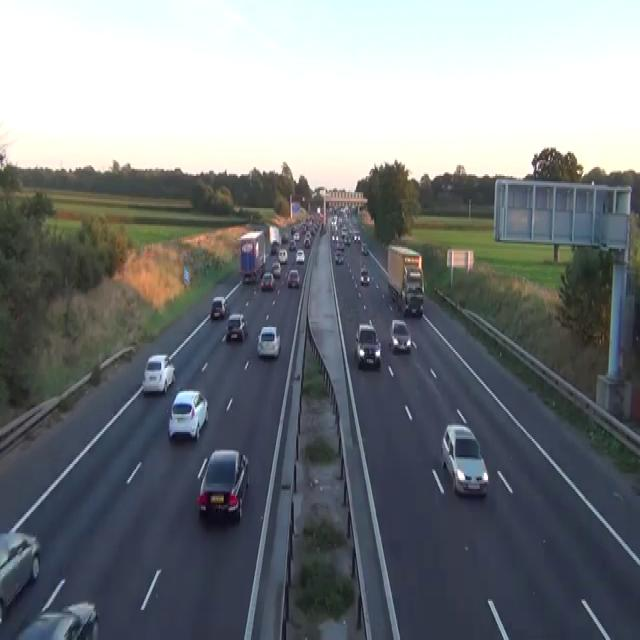Car: (196, 448, 249, 523), (0, 530, 40, 622), (440, 423, 488, 496), (15, 601, 98, 638), (167, 387, 208, 441), (142, 352, 175, 395), (62, 601, 98, 638), (355, 322, 381, 368), (388, 318, 411, 352), (256, 326, 280, 358), (403, 286, 424, 316), (226, 313, 248, 341), (404, 266, 423, 292), (210, 295, 227, 318), (260, 270, 275, 290), (287, 268, 300, 288), (359, 265, 370, 284), (242, 270, 256, 284), (271, 262, 281, 278), (278, 247, 287, 263), (295, 249, 304, 263), (334, 251, 344, 263), (270, 240, 278, 254), (288, 238, 296, 251), (353, 231, 360, 244), (336, 240, 344, 251), (361, 242, 368, 254), (343, 235, 350, 245), (281, 233, 288, 242), (304, 237, 310, 247), (293, 231, 299, 240), (291, 226, 295, 234)
Truck: (387, 244, 425, 316), (238, 230, 266, 284), (269, 224, 281, 252)
